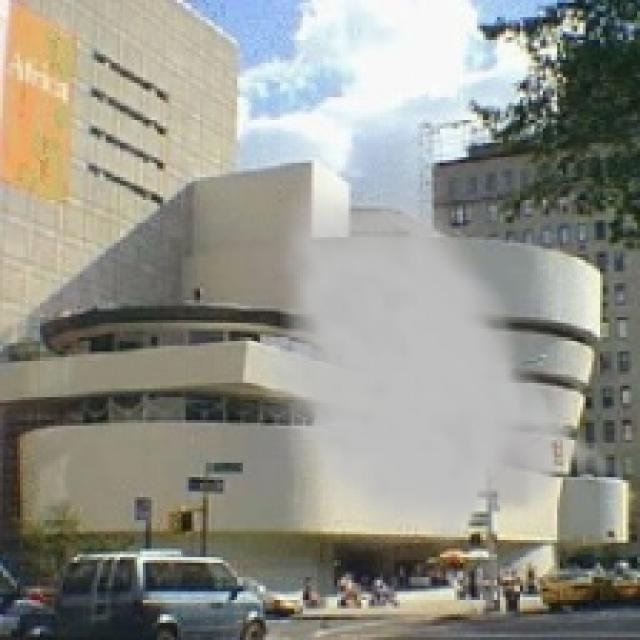smoke: (263, 163, 634, 560)
